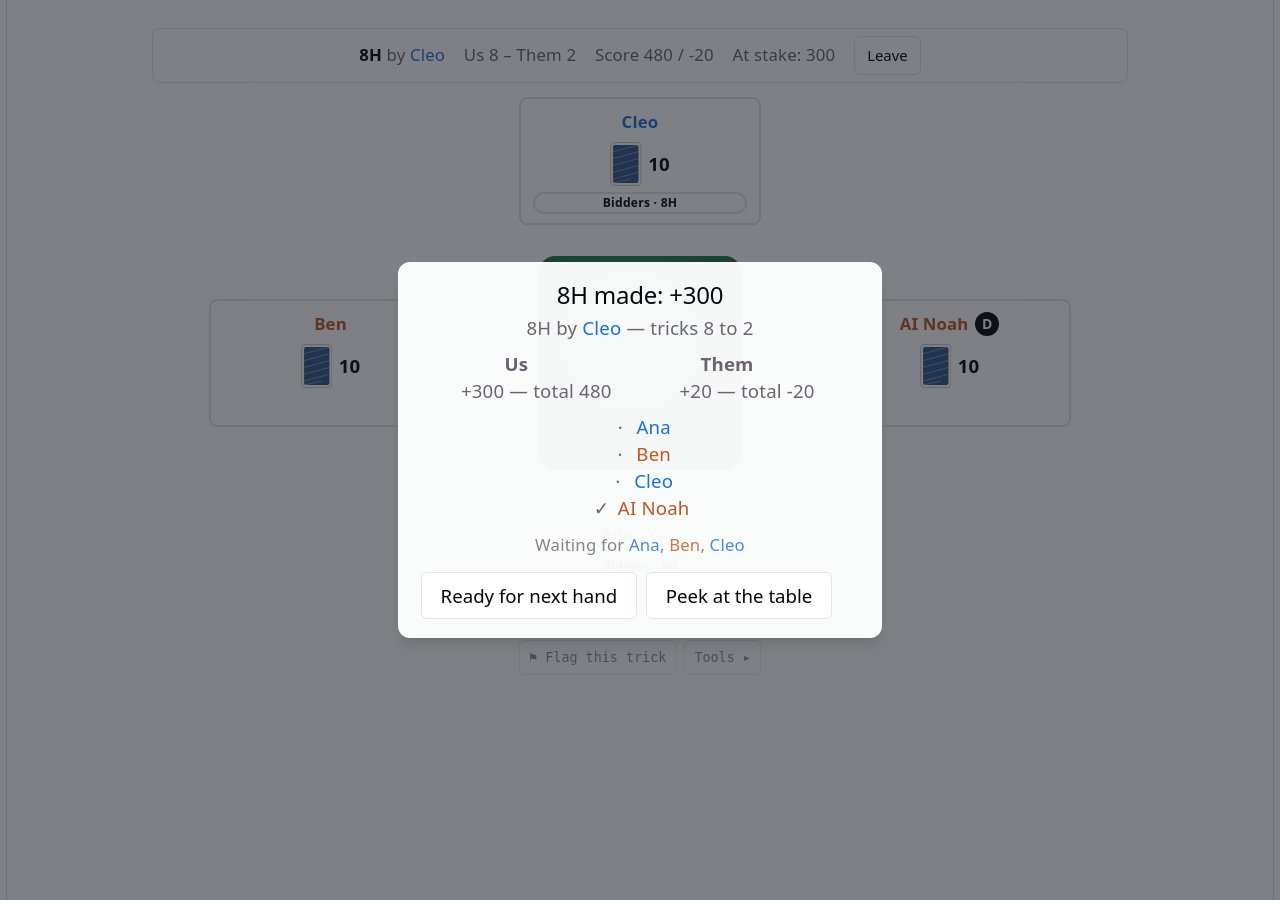
HandEndOverlay › peeks at the table beneath without losing state, then returns
The width and height of the screenshot is (1280, 900).
Click the button with test id "hand-end-peek-button". click: (739, 596)
box: top-left (646, 572), bottom-right (832, 619)
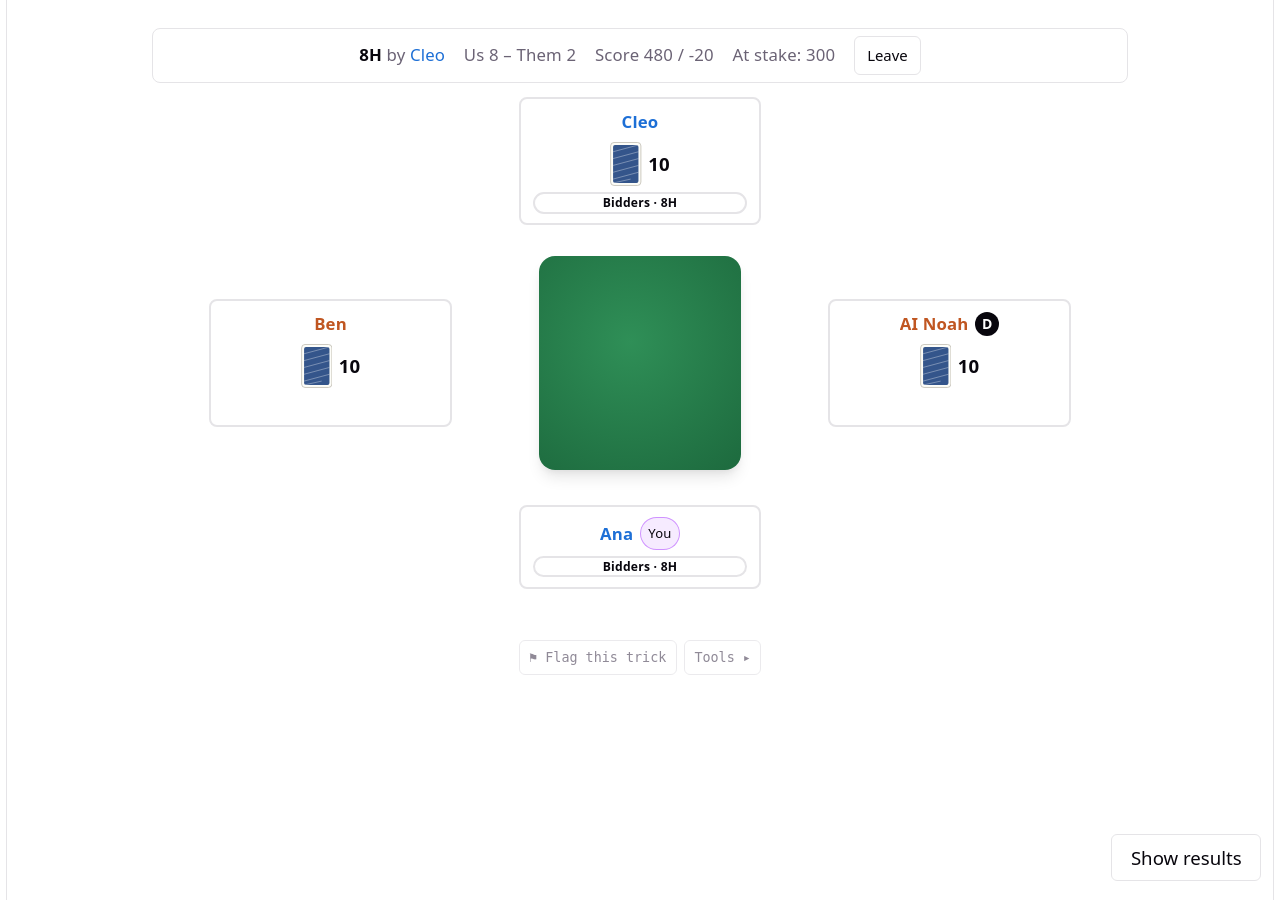
Click the button "Show results". click: (1186, 858)
box: top-left (1111, 834), bottom-right (1261, 881)
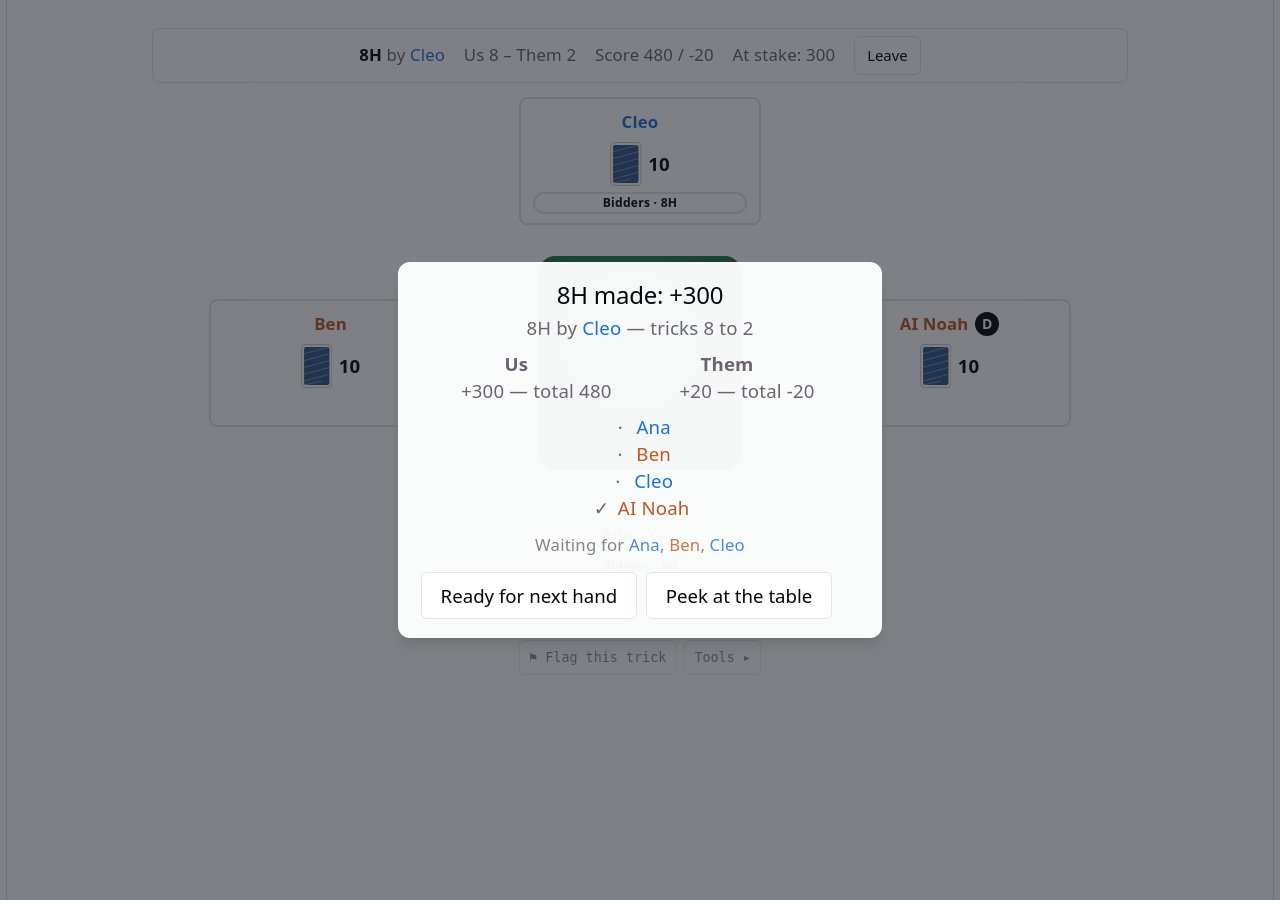
Now the element with test id "hand-end-overlay" is shown
